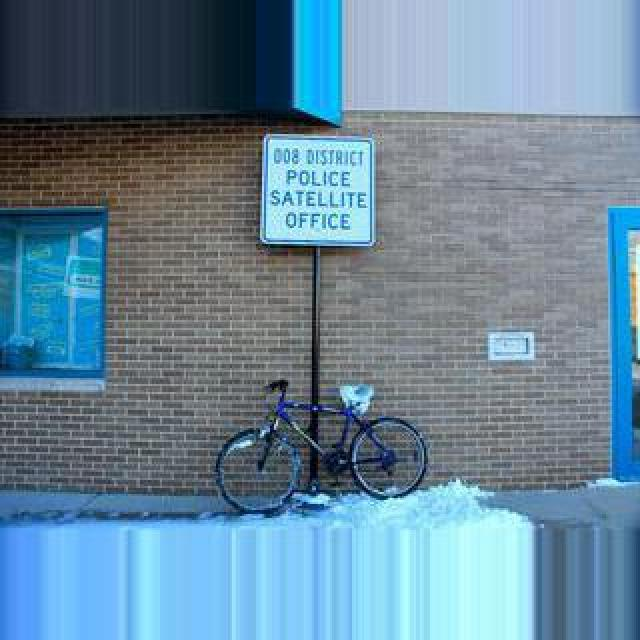Person: (214, 379, 430, 511)
